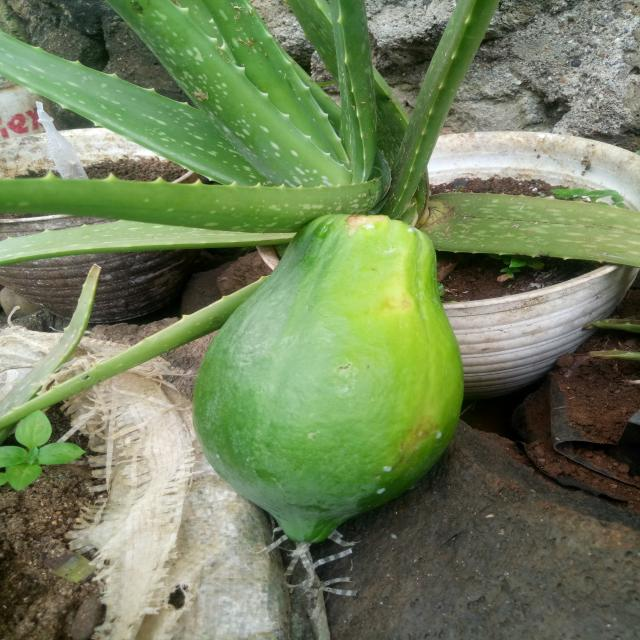Pepaya unrippen: (185, 210, 473, 540)
